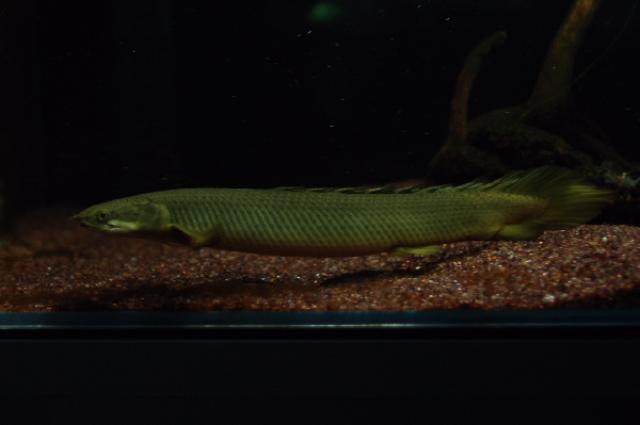Mulut: (59, 202, 109, 234)
Sirip Anal: (496, 217, 548, 247)
Sirip Dada: (154, 212, 232, 266)
Sirip Ekor: (520, 163, 630, 239)
Sirip Perut: (387, 234, 451, 274)
Sirip Punggung: (272, 164, 550, 208)
